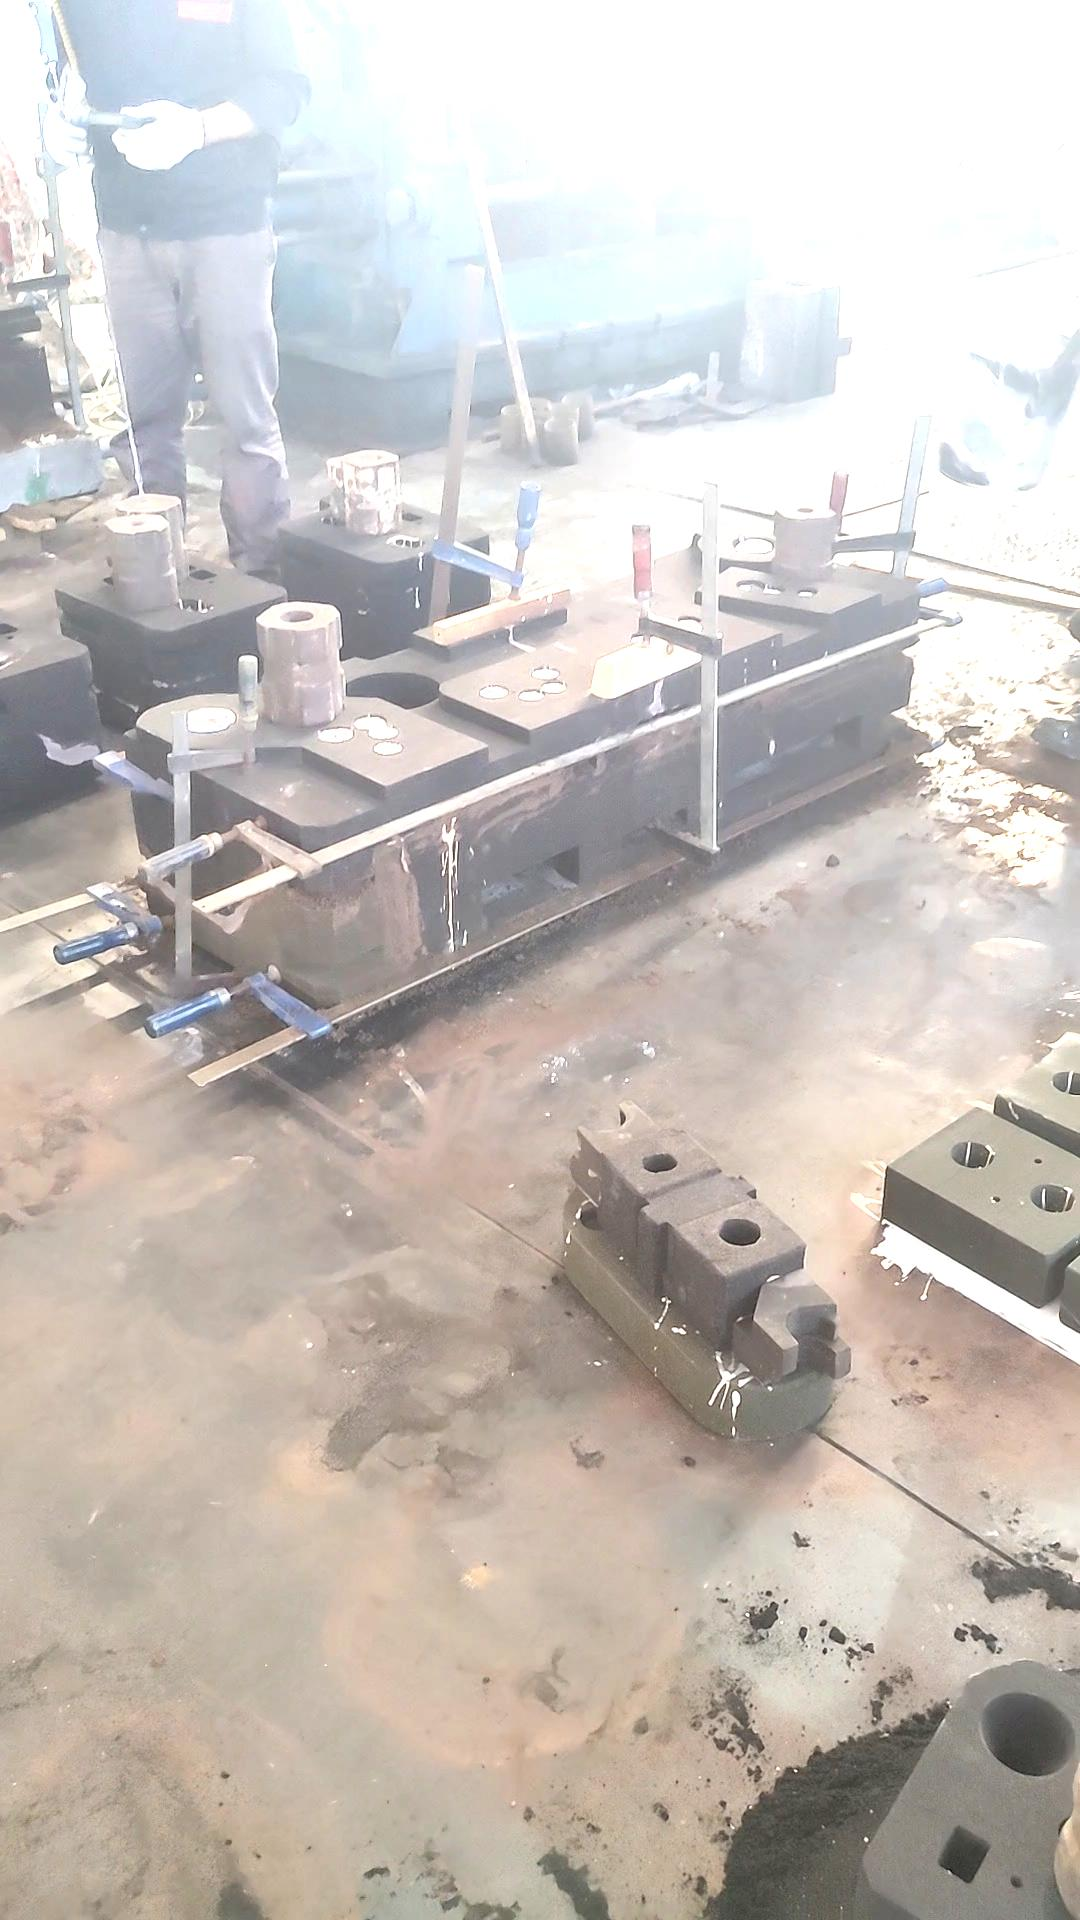pouring hole: (980, 1691, 1075, 1778), (183, 705, 237, 735), (1030, 1182, 1076, 1213), (949, 1141, 994, 1168), (729, 537, 775, 555), (349, 465, 380, 493), (128, 518, 160, 545), (1051, 1069, 1080, 1095), (560, 390, 591, 405), (543, 417, 575, 429), (522, 411, 549, 425), (546, 405, 579, 415), (520, 397, 551, 407), (501, 404, 526, 415)
